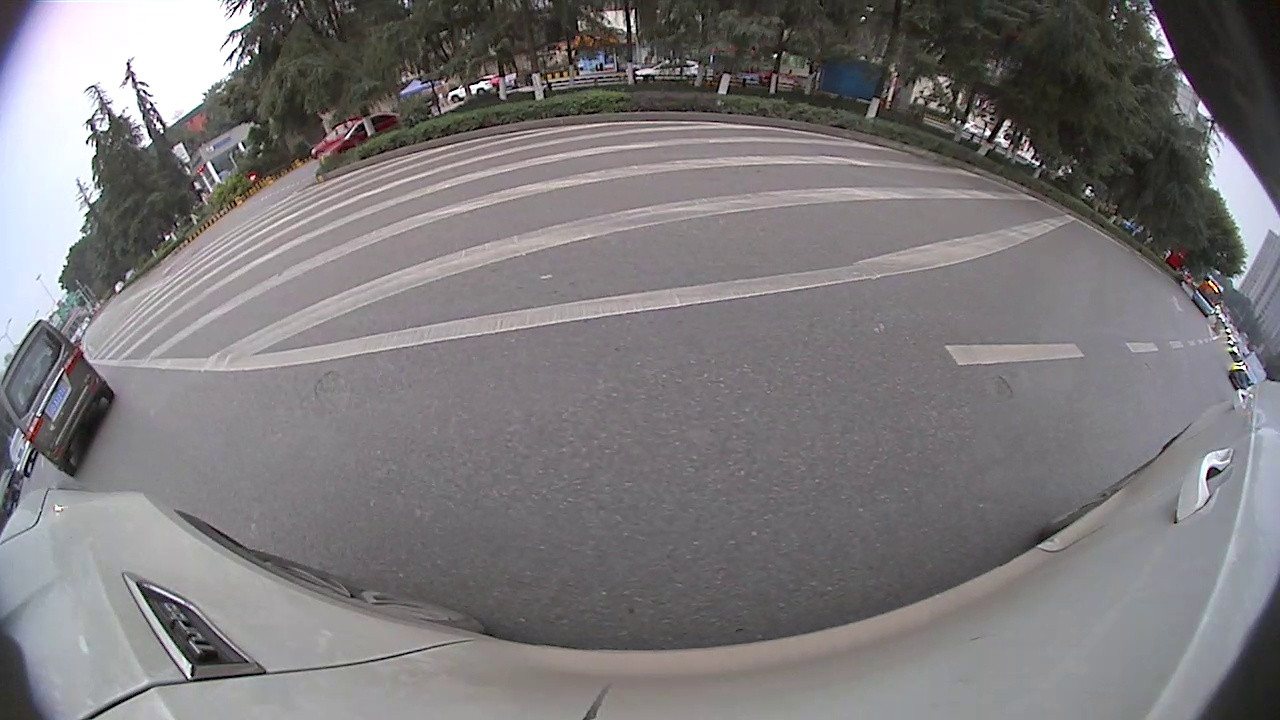car: (934, 137, 1116, 316), (533, 37, 762, 136), (163, 124, 342, 239), (1163, 355, 1246, 466), (2, 301, 86, 403), (68, 215, 140, 289), (1158, 314, 1199, 369)
front: (700, 100, 739, 136), (240, 181, 269, 217)
rear: (1023, 263, 1061, 310), (561, 89, 601, 128), (178, 214, 200, 240)
truck: (709, 27, 896, 115)
